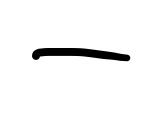minus: (32, 47, 130, 62)
